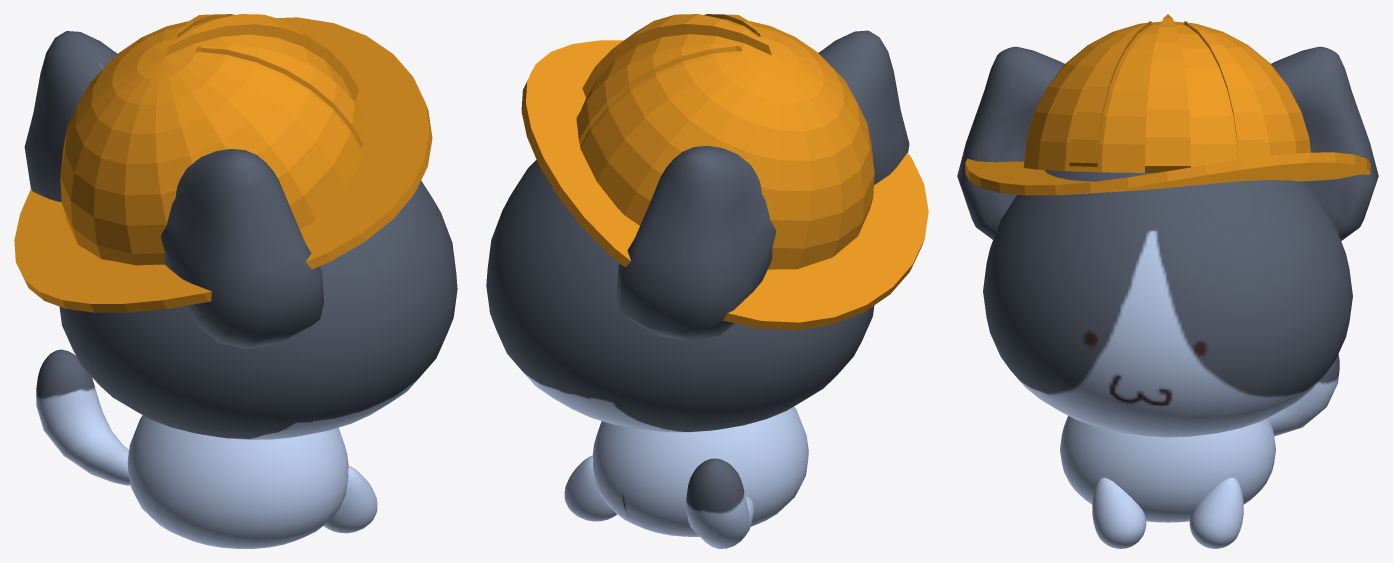
The model's file is cat2.fbx.
The picture shows the model from 3 angles, left to right: view 1: azimuth 30°, elevation 25°; view 2: azimuth 150°, elevation 25°; view 3: azimuth 270°, elevation 25°; orthographic projection. The views are drawn at different scales.
Parts seen in each view (by area): view 1: ears, Circle; view 2: ears, Circle; view 3: ears, Circle.
Part boxes in pixels (box(x1,y1,x2,y2)): ears: box(24, 31, 457, 548); Circle: box(14, 14, 432, 312); ears: box(486, 30, 909, 548); Circle: box(521, 14, 928, 330); ears: box(957, 46, 1378, 548); Circle: box(965, 14, 1370, 195).
Size of the model in its own units: 205 by 257 by 208.
2 materials, 2 textured.
